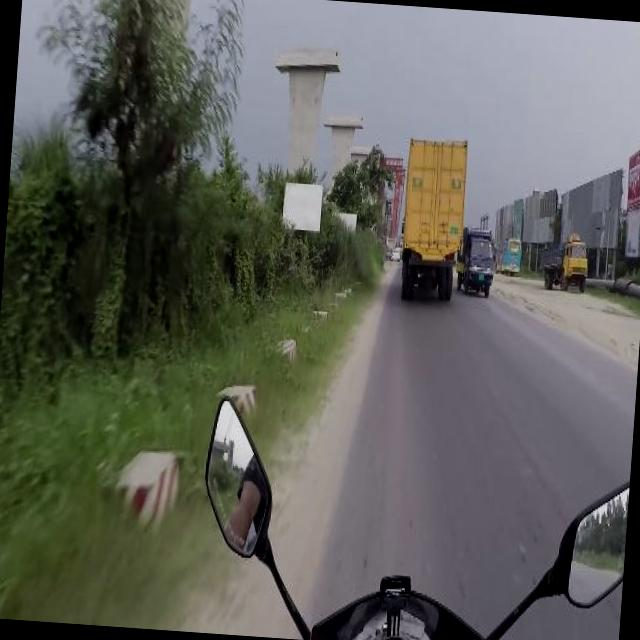bus: (493, 238, 520, 274), (378, 234, 394, 258)
car: (388, 247, 399, 260)
motorcycle: (193, 387, 633, 640)
truck: (395, 130, 468, 301), (534, 235, 588, 292), (457, 223, 495, 296)
